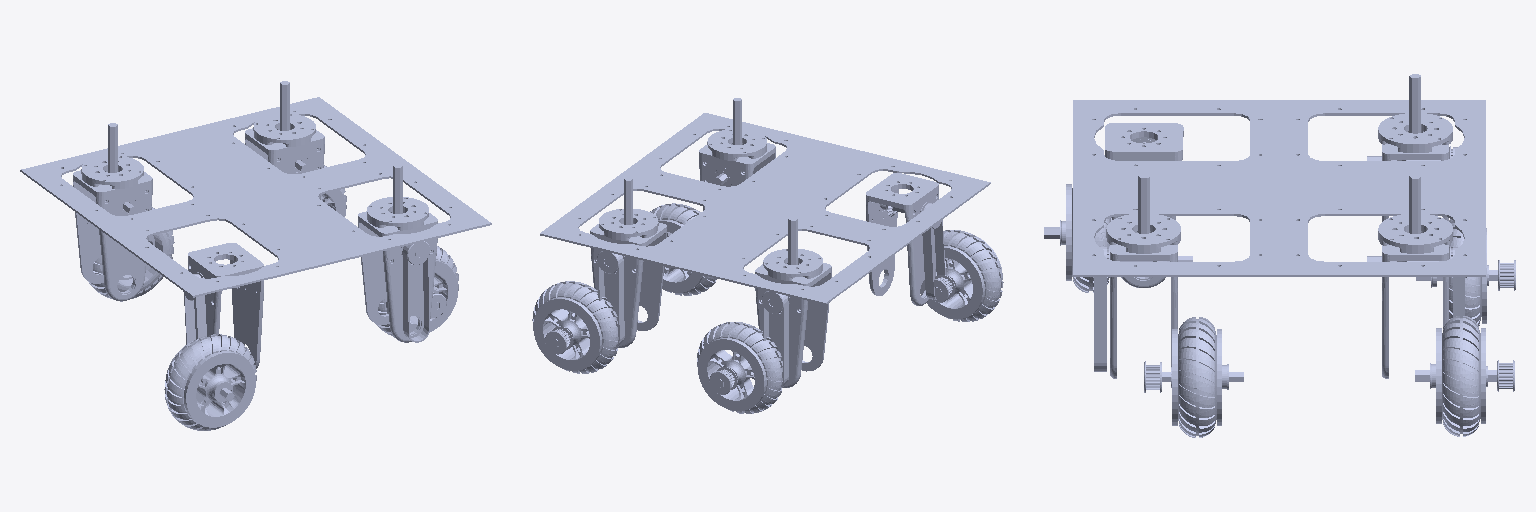
The robot description file, URDF, robot "hermes_robot_description":
<?xml version="1.0" encoding="utf-8"?>
<!-- This URDF was automatically created by SolidWorks to URDF Exporter! Originally created by [author] ([email redacted]) 
     Commit Version: 1.6.0-4-g7f85cfe  Build Version: 1.6.7995.38578
     For more information, please see http://wiki.ros.org/sw_urdf_exporter -->
<robot
  name="hermes_robot_description">
  <link
    name="base_link">
    <inertial>
      <origin
        xyz="-2.10371551824301E-07 -6.02315454494495E-08 0.0435789551996021"
        rpy="0 0 0" />
      <mass
        value="5.7729702362968" />
      <inertia
        ixx="0.0261442345766528"
        ixy="2.82877608896773E-06"
        ixz="7.47544587441788E-10"
        iyy="0.0219026044240062"
        iyz="1.64489628951597E-09"
        izz="0.0462053263639469" />
    </inertial>
    <visual>
      <origin
        xyz="0 0 0"
        rpy="0 0 0" />
      <geometry>
        <mesh
          filename="package://hermes_robot_description/meshes/base_link.STL" />
      </geometry>
      <material
        name="">
        <color
          rgba="0.792156862745098 0.819607843137255 0.933333333333333 1" />
      </material>
    </visual>
    <collision>
      <origin
        xyz="0 0 0"
        rpy="0 0 0" />
      <geometry>
        <mesh
          filename="package://hermes_robot_description/meshes/base_link.STL" />
      </geometry>
    </collision>
  </link>
  <link
    name="Revolve1">
    <inertial>
      <origin
        xyz="-0.0020315725347394 -3.32570022357204E-06 -0.146515511784745"
        rpy="0 0 0" />
      <mass
        value="0.269968020345209" />
      <inertia
        ixx="0.000817081008544825"
        ixy="1.43755452488272E-06"
        ixz="5.94712654176722E-08"
        iyy="0.000962909407158131"
        iyz="1.19067342375234E-06"
        izz="0.000432508914878456" />
    </inertial>
    <visual>
      <origin
        xyz="0 0 0"
        rpy="0 0 0" />
      <geometry>
        <mesh
          filename="package://hermes_robot_description/meshes/Revolve1.STL" />
      </geometry>
      <material
        name="">
        <color
          rgba="0.792156862745098 0.819607843137255 0.933333333333333 1" />
      </material>
    </visual>
    <collision>
      <origin
        xyz="0 0 0"
        rpy="0 0 0" />
      <geometry>
        <mesh
          filename="package://hermes_robot_description/meshes/Revolve1.STL" />
      </geometry>
    </collision>
  </link>
  <joint
    name="Joint_Revolve1"
    type="continuous">
    <origin
      xyz="0.14293 0.16281 0.080887"
      rpy="0 0 0" />
    <parent
      link="base_link" />
    <child
      link="Revolve1" />
    <axis
      xyz="0 0 -1" />
    <limit
      lower="0"
      upper="6.28"
      effort="0"
      velocity="0" />
  </joint>
  <link
    name="Drive1">
    <inertial>
      <origin
        xyz="-0.0595900865520644 0.0010304557549595 0.000120396514376758"
        rpy="0 0 0" />
      <mass
        value="0.968781681350828" />
      <inertia
        ixx="0.00433308692834699"
        ixy="-1.99069564081488E-05"
        ixz="1.18928999633502E-07"
        iyy="0.0023145060676988"
        iyz="-8.1287126219861E-08"
        izz="0.00231372917988357" />
    </inertial>
    <visual>
      <origin
        xyz="0 0 0"
        rpy="0 0 0" />
      <geometry>
        <mesh
          filename="package://hermes_robot_description/meshes/Drive1.STL" />
      </geometry>
      <material
        name="">
        <color
          rgba="0.792156862745098 0.819607843137255 0.933333333333333 1" />
      </material>
    </visual>
    <collision>
      <origin
        xyz="0 0 0"
        rpy="0 0 0" />
      <geometry>
        <mesh
          filename="package://hermes_robot_description/meshes/Drive1.STL" />
      </geometry>
    </collision>
  </link>
  <joint
    name="Joint_Drive1"
    type="continuous">
    <origin
      xyz="0.058211 -0.00088915 -0.23708"
      rpy="0 0 0" />
    <parent
      link="Revolve1" />
    <child
      link="Drive1" />
    <axis
      xyz="-0.99995 0.0098663 0" />
    <limit
      lower="0"
      upper="0"
      effort="0"
      velocity="10" />
  </joint>
  <link
    name="Revolve2">
    <inertial>
      <origin
        xyz="0.00369562604088616 9.94372754585526E-05 -0.14554695452501"
        rpy="0 0 0" />
      <mass
        value="0.278169943270248" />
      <inertia
        ixx="0.000818393002551493"
        ixy="1.09066203211809E-06"
        ixz="-4.70925775867913E-08"
        iyy="0.000964158396336433"
        iyz="8.33032522006963E-08"
        izz="0.000433636015059847" />
    </inertial>
    <visual>
      <origin
        xyz="0 0 0"
        rpy="0 0 0" />
      <geometry>
        <mesh
          filename="package://hermes_robot_description/meshes/Revolve2.STL" />
      </geometry>
      <material
        name="">
        <color
          rgba="0.792156862745098 0.819607843137255 0.933333333333333 1" />
      </material>
    </visual>
    <collision>
      <origin
        xyz="0 0 0"
        rpy="0 0 0" />
      <geometry>
        <mesh
          filename="package://hermes_robot_description/meshes/Revolve2.STL" />
      </geometry>
    </collision>
  </link>
  <joint
    name="Joint_Revolve2"
    type="continuous">
    <origin
      xyz="0.14237 -0.16281 0.080887"
      rpy="0 0 0" />
    <parent
      link="base_link" />
    <child
      link="Revolve2" />
    <axis
      xyz="0 0 -1" />
    <limit
      lower="0"
      upper="6.28"
      effort="0"
      velocity="0" />
  </joint>
  <link
    name="Drive2">
    <inertial>
      <origin
        xyz="-0.0604042669261472 1.00490558338773E-05 0.000120396499160874"
        rpy="0 0 0" />
      <mass
        value="0.968781685280355" />
      <inertia
        ixx="0.00433317009545422"
        ixy="-1.5113061042615E-05"
        ixz="-1.19121259096089E-07"
        iyy="0.00231442290382322"
        iyz="8.10046961048803E-08"
        izz="0.00231372918105276" />
    </inertial>
    <visual>
      <origin
        xyz="0 0 0"
        rpy="0 0 0" />
      <geometry>
        <mesh
          filename="package://hermes_robot_description/meshes/Drive2.STL" />
      </geometry>
      <material
        name="">
        <color
          rgba="0.792156862745098 0.819607843137255 0.933333333333333 1" />
      </material>
    </visual>
    <collision>
      <origin
        xyz="0 0 0"
        rpy="0 0 0" />
      <geometry>
        <mesh
          filename="package://hermes_robot_description/meshes/Drive2.STL" />
      </geometry>
    </collision>
  </link>
  <joint
    name="Joint_Drive2"
    type="continuous">
    <origin
      xyz="0.061783 -0.00014808 -0.23708"
      rpy="0 0 0" />
    <parent
      link="Revolve2" />
    <child
      link="Drive2" />
    <axis
      xyz="0.99997 -0.0074916 0" />
    <limit
      lower="0"
      upper="0"
      effort="0"
      velocity="10" />
  </joint>
  <link
    name="Revolve3">
    <inertial>
      <origin
        xyz="-0.145078348740284 0.000298251578032982 -0.00416216736019684"
        rpy="0 0 0" />
      <mass
        value="0.282156111545984" />
      <inertia
        ixx="0.000434125726646059"
        ixy="2.26740392878552E-06"
        ixz="2.46147953844453E-08"
        iyy="0.000964214819932214"
        iyz="-1.47963647126562E-06"
        izz="0.000818912285874929" />
    </inertial>
    <visual>
      <origin
        xyz="0 0 0"
        rpy="0 0 0" />
      <geometry>
        <mesh
          filename="package://hermes_robot_description/meshes/Revolve3.STL" />
      </geometry>
      <material
        name="">
        <color
          rgba="0.792156862745098 0.819607843137255 0.933333333333333 1" />
      </material>
    </visual>
    <collision>
      <origin
        xyz="0 0 0"
        rpy="0 0 0" />
      <geometry>
        <mesh
          filename="package://hermes_robot_description/meshes/Revolve3.STL" />
      </geometry>
    </collision>
  </link>
  <joint
    name="Joint_Revolve3"
    type="continuous">
    <origin
      xyz="-0.14293 -0.16281 0.080887"
      rpy="3.1416 -1.5708 0" />
    <parent
      link="base_link" />
    <child
      link="Revolve3" />
    <axis
      xyz="-1 0 0" />
    <limit
      lower="0"
      upper="6.28"
      effort="0"
      velocity="0" />
  </joint>
  <link
    name="Drive3">
    <inertial>
      <origin
        xyz="0.000120396516468307 0.000173138811222162 0.0604040196046097"
        rpy="0 0 0" />
      <mass
        value="0.968781680813743" />
      <inertia
        ixx="0.00231372917972381"
        ixy="8.13257654302086E-08"
        ixz="1.18902620179094E-07"
        iyy="0.00231451922820414"
        iyz="2.05633802827397E-05"
        izz="0.00433307376740016" />
    </inertial>
    <visual>
      <origin
        xyz="0 0 0"
        rpy="0 0 0" />
      <geometry>
        <mesh
          filename="package://hermes_robot_description/meshes/Drive3.STL" />
      </geometry>
      <material
        name="">
        <color
          rgba="0.792156862745098 0.819607843137255 0.933333333333333 1" />
      </material>
    </visual>
    <collision>
      <origin
        xyz="0 0 0"
        rpy="0 0 0" />
      <geometry>
        <mesh
          filename="package://hermes_robot_description/meshes/Drive3.STL" />
      </geometry>
    </collision>
  </link>
  <joint
    name="Joint_Drive3"
    type="continuous">
    <origin
      xyz="-0.23708 -0.0003149 -0.061783"
      rpy="0 0 0" />
    <parent
      link="Revolve3" />
    <child
      link="Drive3" />
    <axis
      xyz="0 -0.010191 -0.99995" />
    <limit
      lower="0"
      upper="0"
      effort="0"
      velocity="10" />
  </joint>
  <link
    name="Revolve4">
    <inertial>
      <origin
        xyz="-0.00369447983778581 -5.57141729282673E-05 -0.145545341192344"
        rpy="0 0 0" />
      <mass
        value="0.278169949354846" />
      <inertia
        ixx="0.000818395728366805"
        ixy="-1.00119769955693E-06"
        ixz="4.24905936671552E-08"
        iyy="0.000964130017408439"
        iyz="8.97615065711788E-07"
        izz="0.000433670847908861" />
    </inertial>
    <visual>
      <origin
        xyz="0 0 0"
        rpy="0 0 0" />
      <geometry>
        <mesh
          filename="package://hermes_robot_description/meshes/Revolve4.STL" />
      </geometry>
      <material
        name="">
        <color
          rgba="0.792156862745098 0.819607843137255 0.933333333333333 1" />
      </material>
    </visual>
    <collision>
      <origin
        xyz="0 0 0"
        rpy="0 0 0" />
      <geometry>
        <mesh
          filename="package://hermes_robot_description/meshes/Revolve4.STL" />
      </geometry>
    </collision>
  </link>
  <joint
    name="Joint_Revolve4"
    type="continuous">
    <origin
      xyz="-0.14237 0.16281 0.080887"
      rpy="0 0 0" />
    <parent
      link="base_link" />
    <child
      link="Revolve4" />
    <axis
      xyz="0 0 -1" />
    <limit
      lower="0"
      upper="6.28"
      effort="0"
      velocity="0" />
  </joint>
  <link
    name="Drive4">
    <inertial>
      <origin
        xyz="-0.0622112205431669 4.79255844373916E-06 0.000114732036940984"
        rpy="0 0 0" />
      <mass
        value="0.850687527986548" />
      <inertia
        ixx="0.00415798393864943"
        ixy="1.31982957892877E-05"
        ixz="7.75917649710273E-08"
        iyy="0.00221684368675788"
        iyz="-2.1169487140673E-07"
        izz="0.00221655869094813" />
    </inertial>
    <visual>
      <origin
        xyz="0 0 0"
        rpy="0 0 0" />
      <geometry>
        <mesh
          filename="package://hermes_robot_description/meshes/Drive4.STL" />
      </geometry>
      <material
        name="">
        <color
          rgba="0.792156862745098 0.819607843137255 0.933333333333333 1" />
      </material>
    </visual>
    <collision>
      <origin
        xyz="0 0 0"
        rpy="0 0 0" />
      <geometry>
        <mesh
          filename="package://hermes_robot_description/meshes/Drive4.STL" />
      </geometry>
    </collision>
  </link>
  <joint
    name="Joint_Drive4"
    type="continuous">
    <origin
      xyz="0.058218 8.492E-05 -0.23708"
      rpy="0 0 0" />
    <parent
      link="Revolve4" />
    <child
      link="Drive4" />
    <axis
      xyz="-0.99998 -0.0068655 0" />
    <limit
      lower="0"
      upper="0"
      effort="0"
      velocity="10" />
  </joint>
</robot>

--- What the picture shows (computed from the rendered views, not written in the file) ---
Views: 3 orthographic renders of the robot side by side, from view 1: azimuth 30°, elevation 25°; view 2: azimuth 150°, elevation 25°; view 3: azimuth 270°, elevation 25°.
Robot: hermes_robot_description — 9 links, 8 joints (8 continuous); root link base_link; default pose: every joint at zero.
Visible links, largest first — view 1: base_link, Revolve2, Revolve4, Drive3, Revolve3, Revolve1, Drive2, Drive4; view 2: base_link, Revolve4, Revolve1, Drive1, Drive4, Revolve3, Drive3, Revolve2, Drive2; view 3: base_link, Drive1, Drive2, Revolve2, Revolve1, Revolve4, Revolve3, Drive4, Drive3.
Boxes of the visible links, bbox=[...] form: base_link: bbox=[20, 97, 491, 297]; Revolve2: bbox=[358, 164, 437, 342]; Revolve4: bbox=[73, 123, 152, 301]; Drive3: bbox=[164, 334, 256, 430]; Revolve3: bbox=[183, 243, 263, 368]; Revolve1: bbox=[245, 81, 324, 199]; Drive2: bbox=[376, 246, 458, 336]; Drive4: bbox=[88, 207, 174, 298]; base_link: bbox=[540, 113, 990, 304]; Revolve4: bbox=[755, 217, 831, 387]; Revolve1: bbox=[590, 177, 666, 347]; Drive1: bbox=[532, 281, 619, 373]; Drive4: bbox=[697, 322, 783, 413]; Revolve3: bbox=[866, 173, 945, 305]; Drive3: bbox=[920, 230, 1003, 321]; Revolve2: bbox=[699, 98, 775, 210]; Drive2: bbox=[650, 203, 716, 295]; base_link: bbox=[1073, 100, 1485, 276]; Drive1: bbox=[1415, 316, 1514, 436]; Drive2: bbox=[1144, 317, 1243, 437]; Revolve2: bbox=[1093, 174, 1192, 378]; Revolve1: bbox=[1367, 174, 1466, 378]; Revolve4: bbox=[1367, 74, 1457, 221]; Revolve3: bbox=[1105, 123, 1183, 287]; Drive4: bbox=[1416, 219, 1515, 325]; Drive3: bbox=[1044, 184, 1111, 292].
Bounding box of the posed robot: 0.5553 × 0.5654 × 0.3104 m (x, y, z).
9 mesh visuals loaded from 9 distinct referenced files (9 binary STL).